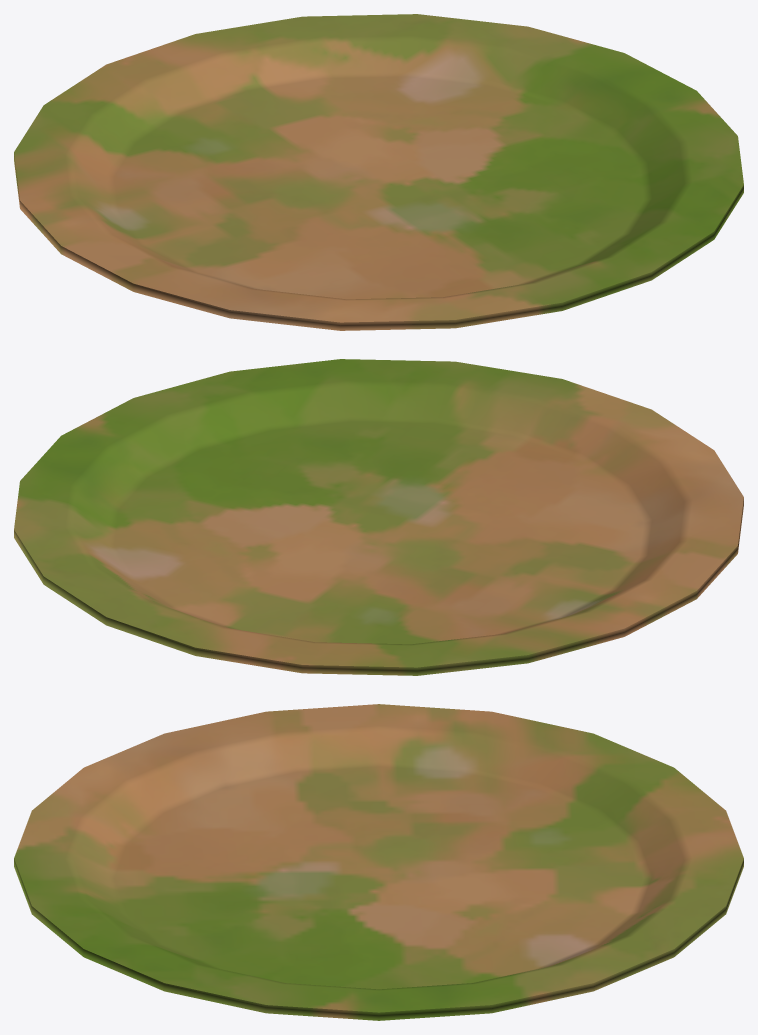
The model's file is Plate.fbx.
3 renders of one model, top to bottom at view 1: azimuth 30°, elevation 25°; view 2: azimuth 150°, elevation 25°; view 3: azimuth 270°, elevation 25°, orthographic.
Parts seen in each view (by area): view 1: Plate; view 2: Plate; view 3: Plate.
Boxes of the visible parts, x1,y1,x2,y2 form: Plate: (14,14,743,330); Plate: (14,359,743,675); Plate: (14,704,743,1020).
Size of the model in its own units: 4.68 by 0.2017 by 4.68.
